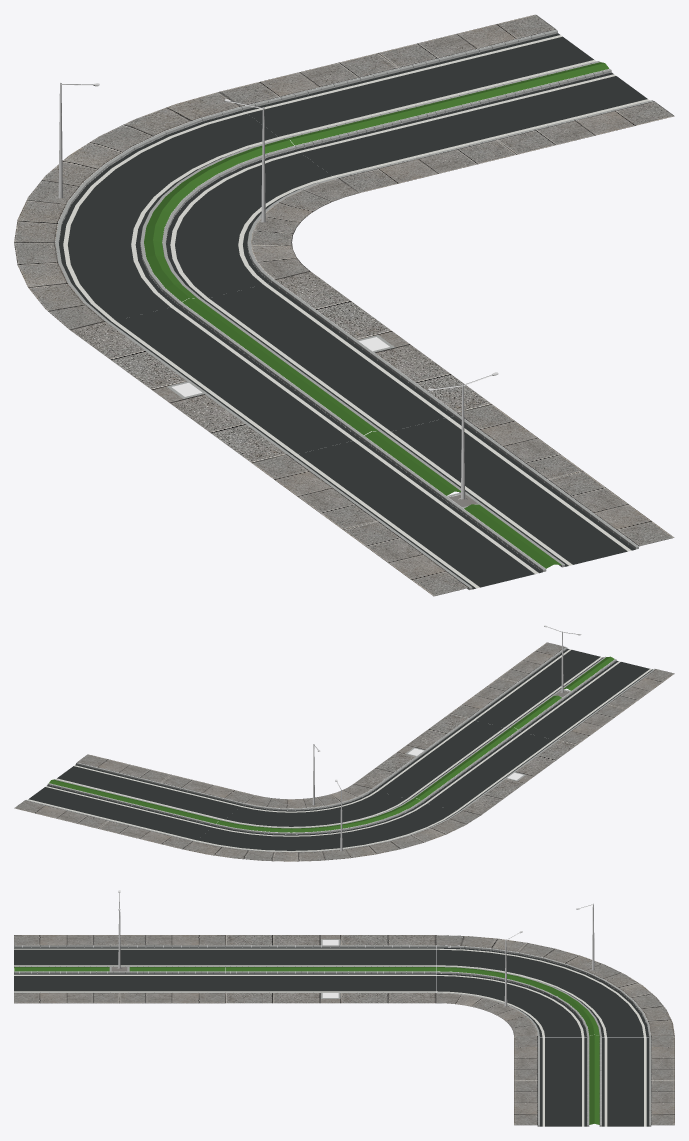
File: carretera-curva-v1.glb
3 renders of one model, top to bottom at view 1: azimuth 30°, elevation 25°; view 2: azimuth 150°, elevation 25°; view 3: azimuth 270°, elevation 25°, orthographic. The views are drawn at different scales.
Parts seen in each view (by area): view 1: Circle.995, Circle.976, Circle.984, Circle.1000, Circle.999, Circle.1005, Circle.989, Circle.981, Circle.998, Circle.996, Circle.1003, Circle.997 (+11 smaller); view 2: Circle.995, Circle.976, Circle.984, Circle.1000, Circle.999, Circle.1005, Circle.989, Circle.981, Circle.998, Circle.996, Circle.1003, Circle.997 (+11 smaller); view 3: Circle.995, Circle.976, Circle.984, Circle.1000, Circle.999, Circle.989, Circle.981, Circle.1005, Circle.998, Circle.996, Circle.979, Circle.987 (+11 smaller).
Part boxes in pixels (x1,y1,x2,y2): Circle.995: (59, 110, 331, 321); Circle.976: (110, 283, 453, 455); Circle.984: (293, 416, 635, 589); Circle.1000: (243, 33, 647, 175); Circle.999: (14, 91, 358, 329); Circle.1005: (220, 14, 674, 193); Circle.989: (252, 404, 674, 596); Circle.981: (69, 271, 491, 462); Circle.998: (55, 107, 337, 320); Circle.996: (63, 112, 334, 321); Circle.1003: (245, 35, 649, 177); Circle.997: (144, 139, 293, 301); Circle.995: (196, 790, 458, 850); Circle.976: (374, 719, 555, 811); Circle.984: (471, 648, 652, 740); Circle.1000: (28, 764, 243, 839); Circle.999: (182, 784, 480, 861); Circle.1005: (14, 754, 255, 849); Circle.989: (450, 642, 674, 744); Circle.981: (353, 713, 577, 815); Circle.998: (193, 789, 461, 852); Circle.996: (195, 791, 457, 851); Circle.1003: (27, 765, 241, 840); Circle.997: (216, 798, 420, 832); Circle.995: (436, 947, 648, 1037); Circle.976: (225, 947, 435, 991); Circle.984: (14, 947, 224, 991); Circle.1000: (540, 1037, 648, 1126); Circle.999: (436, 935, 674, 1035); Circle.989: (14, 935, 224, 1003); Circle.981: (225, 935, 436, 1003); Circle.1005: (514, 1036, 674, 1125); Circle.998: (436, 945, 650, 1036); Circle.996: (436, 948, 646, 1037); Circle.979: (225, 948, 435, 992); Circle.987: (14, 948, 224, 992).
Bounding box in the file's own units: 42.63 × 7.37 × 62.63.
Materials: 6 (1 with a texture image).
